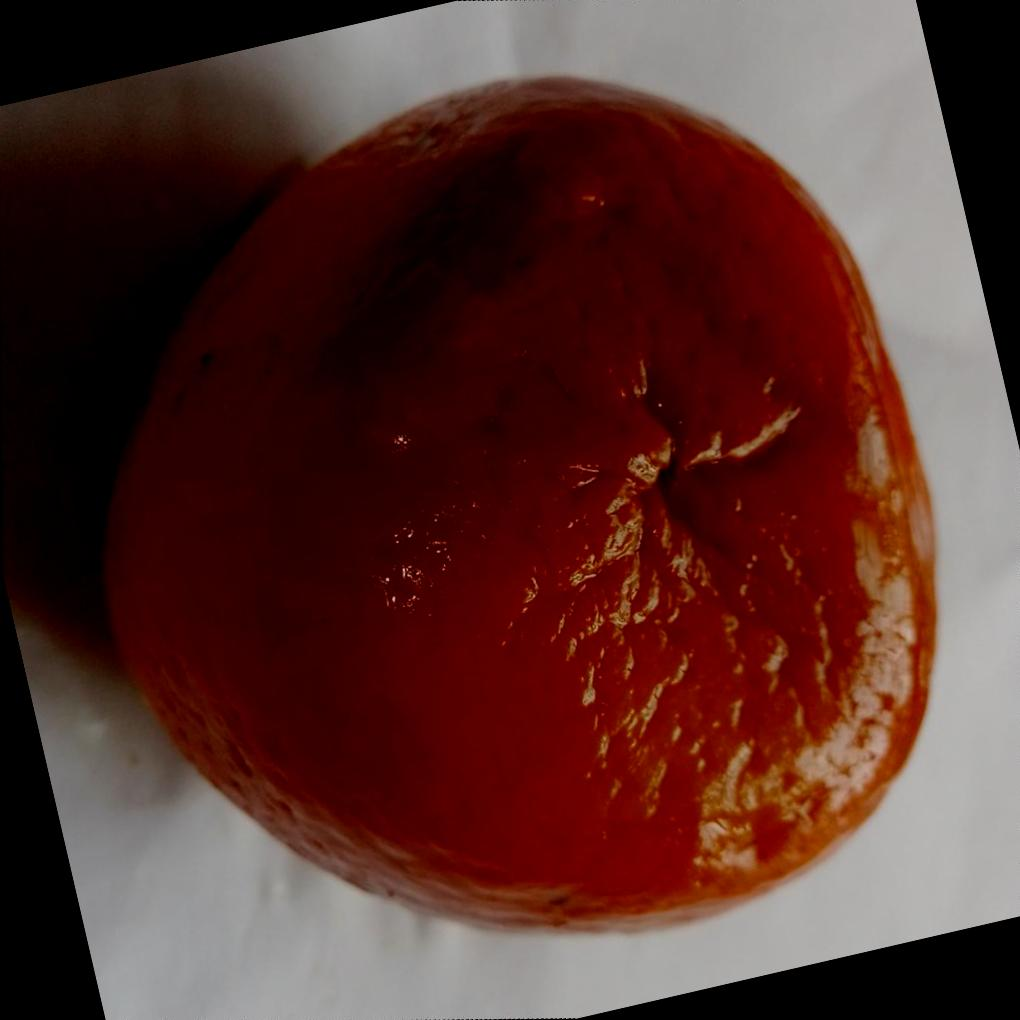FreshOrange: (98, 70, 940, 932)
